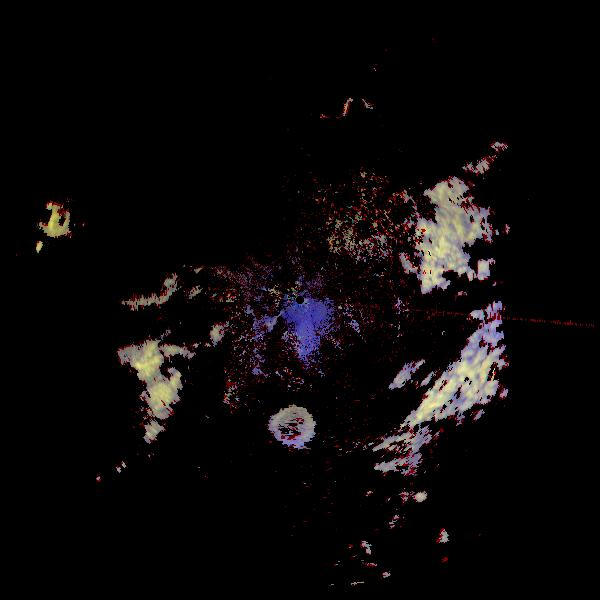roost: (268, 400, 319, 451)
